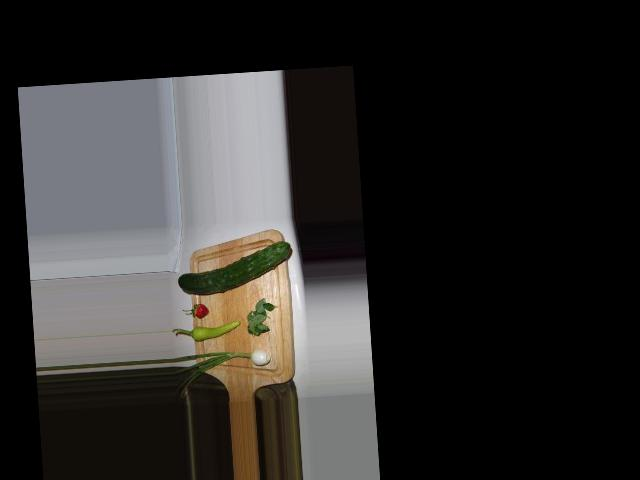cucumber: (176, 240, 293, 296)
